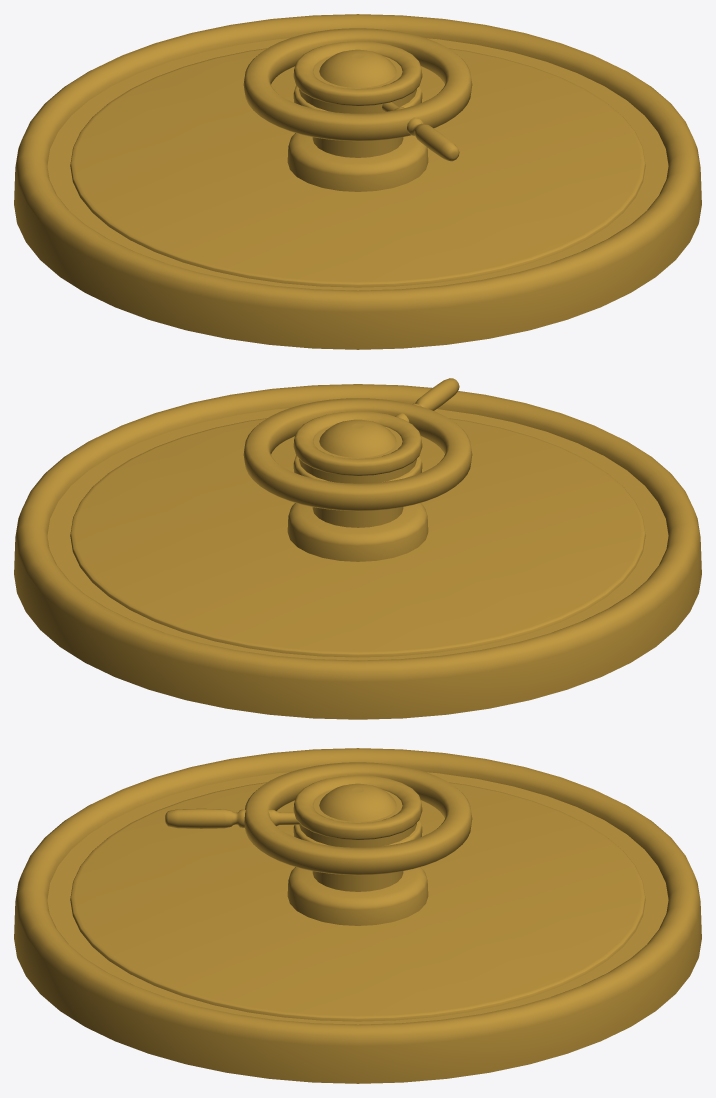
Rendered from SM_Handle.FBX.
3 views of the same model, one above another, from view 1: azimuth 30°, elevation 25°; view 2: azimuth 150°, elevation 25°; view 3: azimuth 270°, elevation 25° (orthographic).
Visible parts, largest first — view 1: HandlePlatform01_low, Handle_low, HandlePlatform02_low, Sphere_low; view 2: HandlePlatform01_low, Handle_low, HandlePlatform02_low, Sphere_low; view 3: HandlePlatform01_low, Handle_low, HandlePlatform02_low, Sphere_low.
Part boxes in pixels (x1=…): HandlePlatform01_low: x1=14, y1=14, x2=701, y2=349; Handle_low: x1=243, y1=28, x2=472, y2=161; HandlePlatform02_low: x1=47, y1=38, x2=668, y2=290; Sphere_low: x1=319, y1=49, x2=396, y2=87; HandlePlatform01_low: x1=14, y1=384, x2=701, y2=719; Handle_low: x1=243, y1=378, x2=472, y2=511; HandlePlatform02_low: x1=47, y1=408, x2=668, y2=660; Sphere_low: x1=319, y1=419, x2=396, y2=457; HandlePlatform01_low: x1=14, y1=748, x2=701, y2=1083; Handle_low: x1=165, y1=762, x2=472, y2=875; HandlePlatform02_low: x1=47, y1=772, x2=668, y2=1024; Sphere_low: x1=319, y1=783, x2=396, y2=821.
Bounding box in the file's own units: 3.67 × 0.872 × 3.67.
